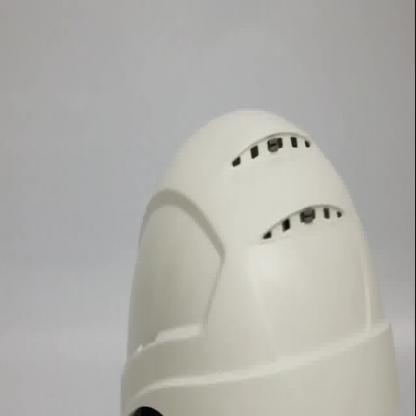helmet: (118, 103, 402, 416)
